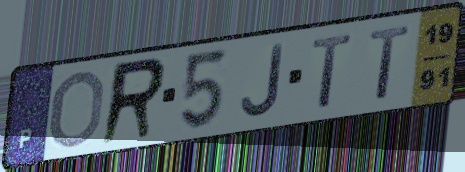5: (179, 44, 231, 133)
J: (238, 41, 286, 120)
O: (45, 68, 107, 151)
R: (96, 54, 170, 150)
T: (309, 31, 356, 112), (366, 22, 413, 103)
